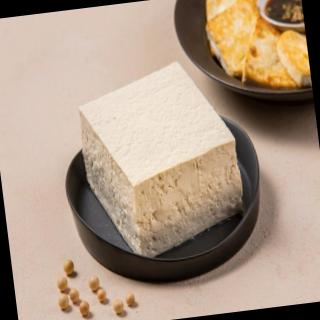Tahu: (45, 57, 281, 265)
